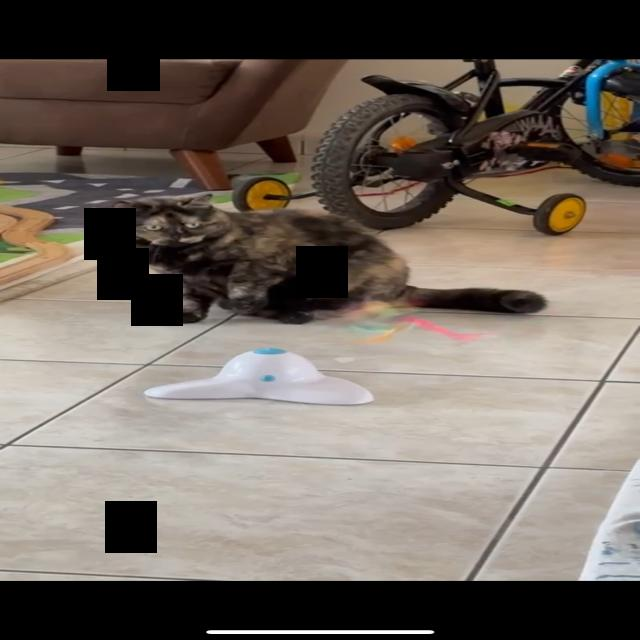authorized: (100, 192, 548, 326)
